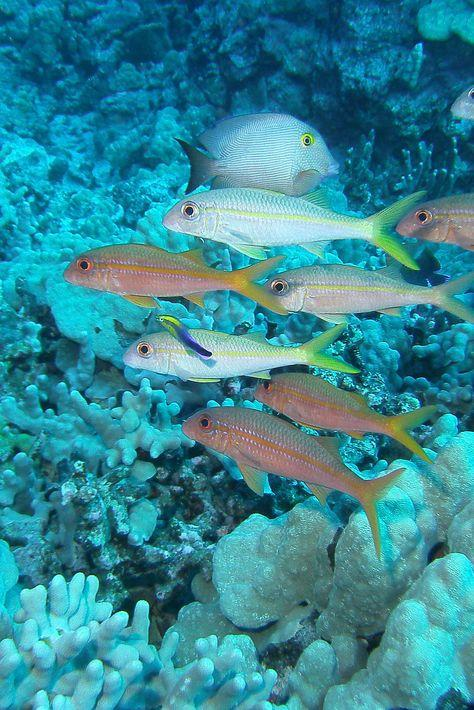fish: (182, 405, 407, 562), (162, 188, 427, 271), (63, 244, 289, 316), (253, 373, 436, 461), (123, 323, 361, 382), (175, 112, 341, 196), (262, 264, 474, 326), (396, 192, 474, 254), (158, 316, 211, 358), (449, 81, 474, 118)
